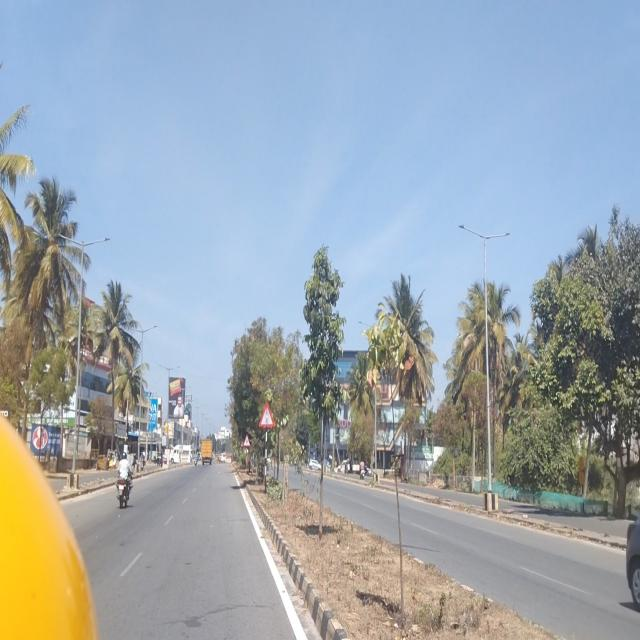bien_cam: (258, 402, 274, 429), (243, 432, 250, 448)
